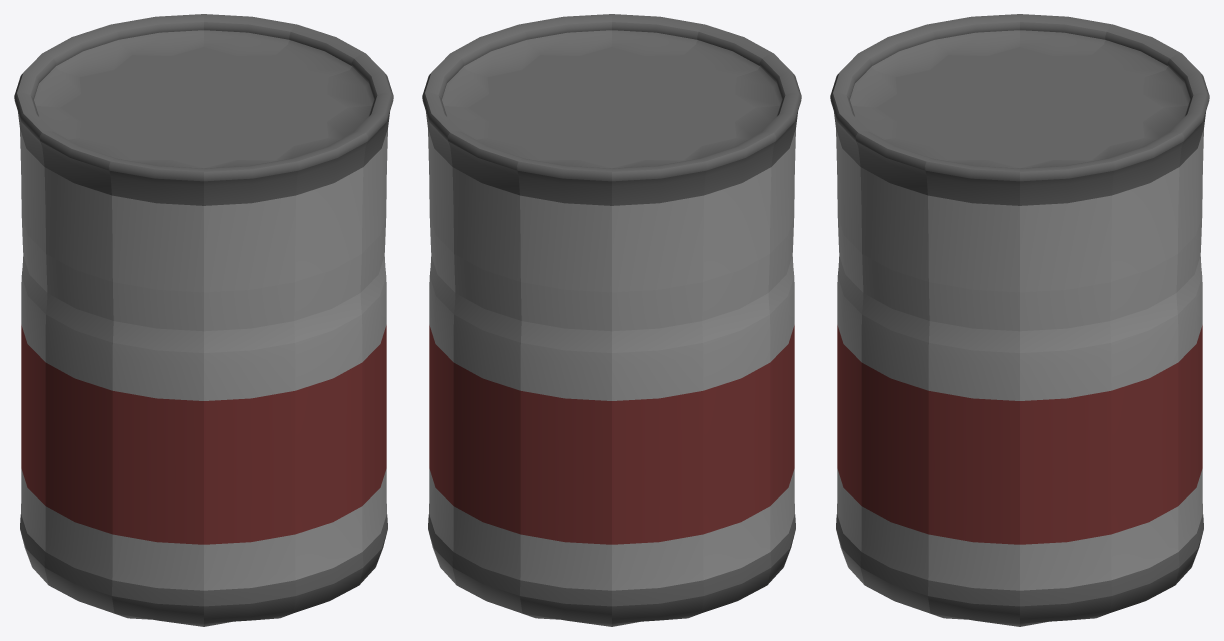
Rendered from FoodCan.fbx.
The picture shows the model from 3 angles, left to right: view 1: azimuth 30°, elevation 25°; view 2: azimuth 150°, elevation 25°; view 3: azimuth 270°, elevation 25°; orthographic projection.
Visible parts, largest first — view 1: Food_Can; view 2: Food_Can; view 3: Food_Can.
Boxes of the visible parts, x1,y1,x2,y2 form: Food_Can: (14,14,393,626); Food_Can: (422,14,801,626); Food_Can: (830,14,1209,626).
Size of the model in its own units: 45.08 by 63.09 by 45.08.
